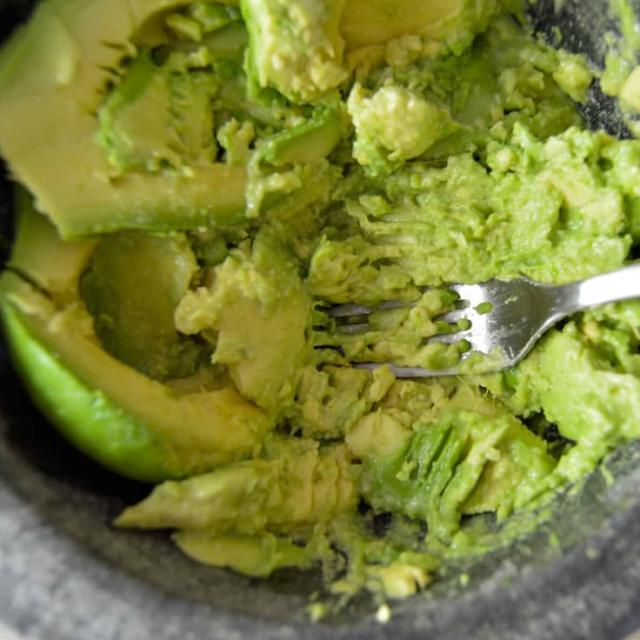avocado: (0, 0, 639, 596), (0, 199, 272, 481), (0, 0, 246, 237)
